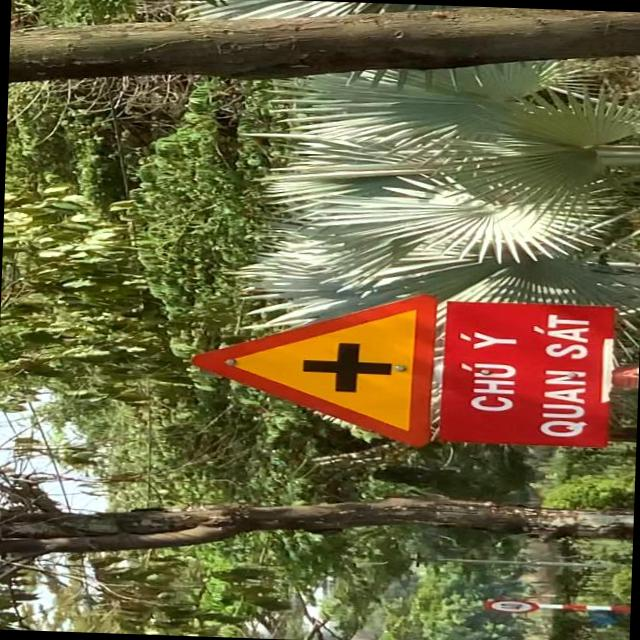W-205a: (186, 285, 438, 446)
